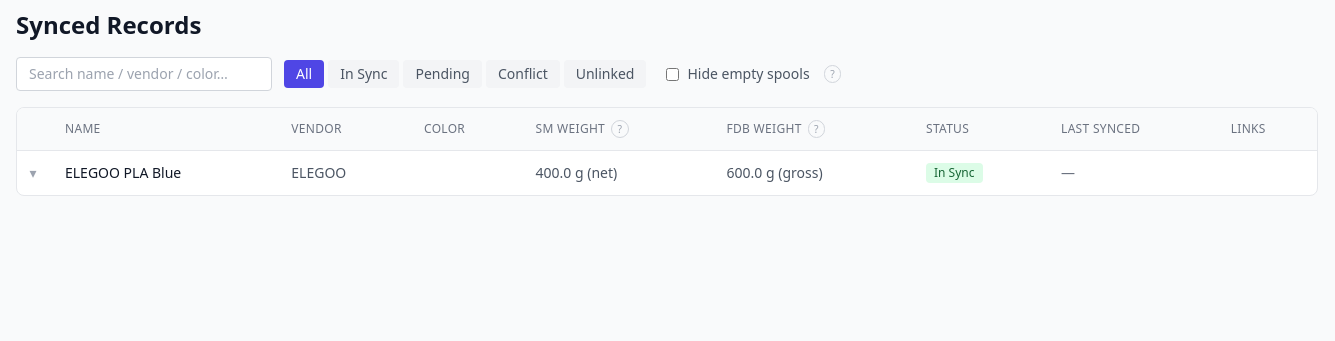
it: SyncedRecords — Weight net/gross labels › omits the suffix on an empty weight side
Click the text "ELEGOO PLA Blue" at (162, 172), box [49,150,275,195]
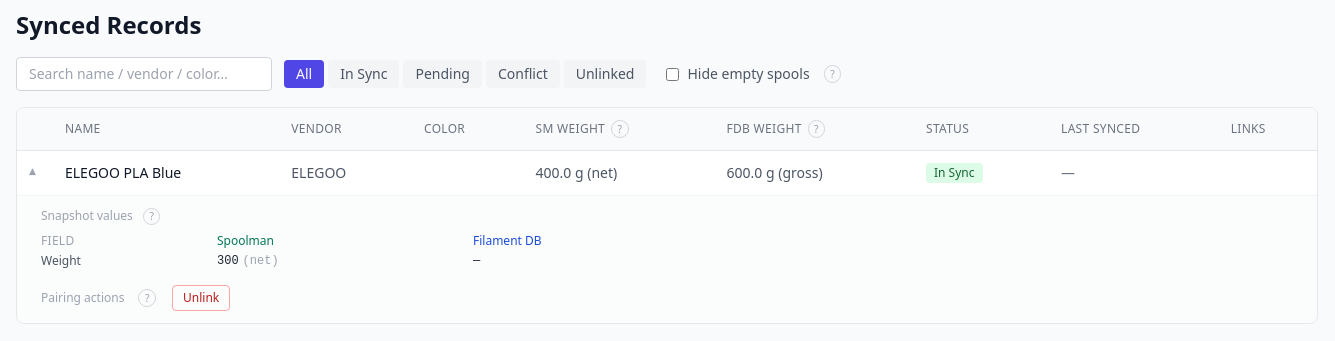
Check: the text "(net)" is shown, box [243,254,279,268]
